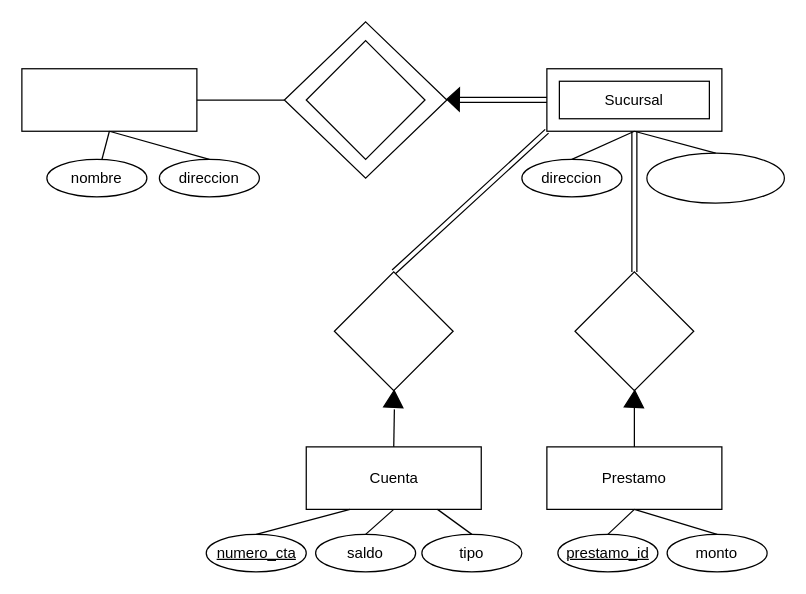
The diagram is 806 pixels wide and 594 high, and some of its shapes have lost their labels. Here are the shapes that lost their labels. From the top down, the box of each, then its label:
(21, 68, 197, 131): Banco
(305, 39, 425, 159): Tiene
(646, 152, 784, 203): numero_sucursal
(333, 271, 453, 391): Administra
(574, 271, 694, 391): Ofrece
